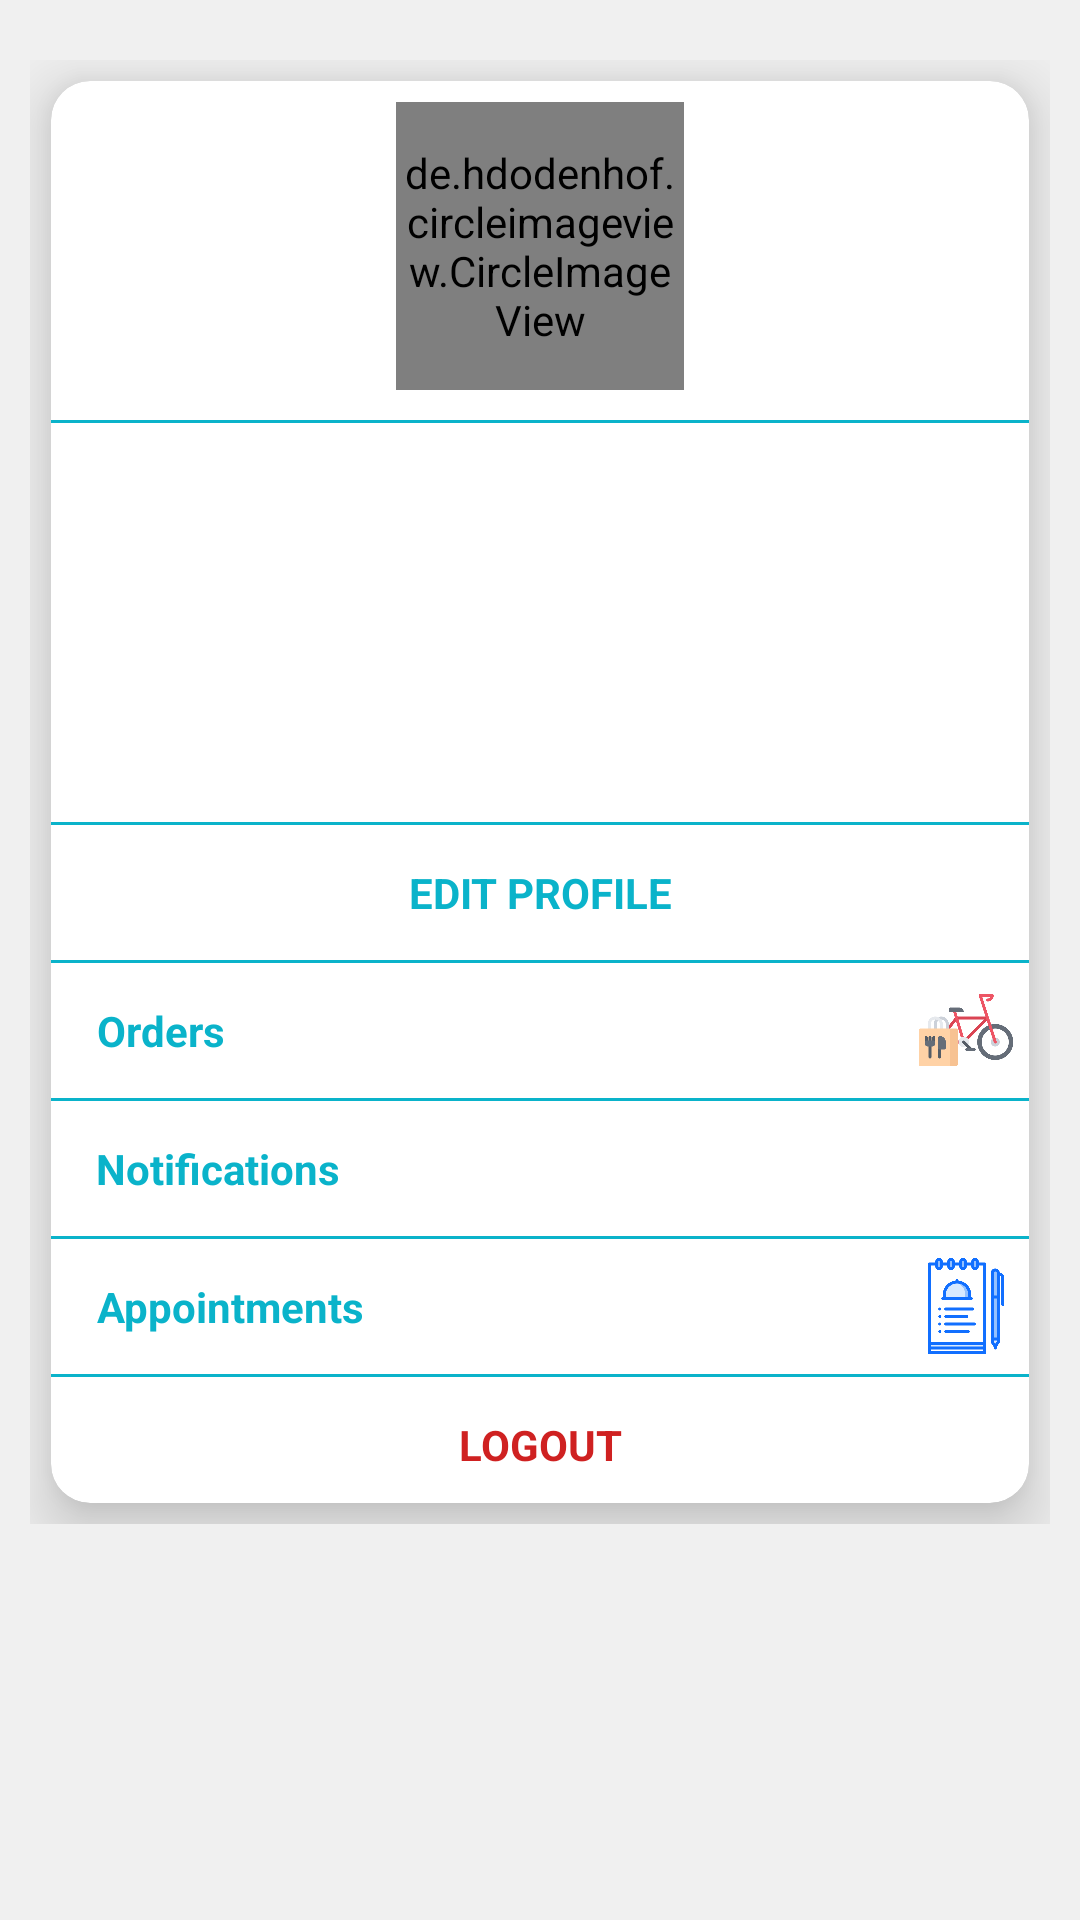

Screen size 1080 x 1920. Icon name, then its center in pixels as (x=x, y=y):
order: (x=966, y=1030)
